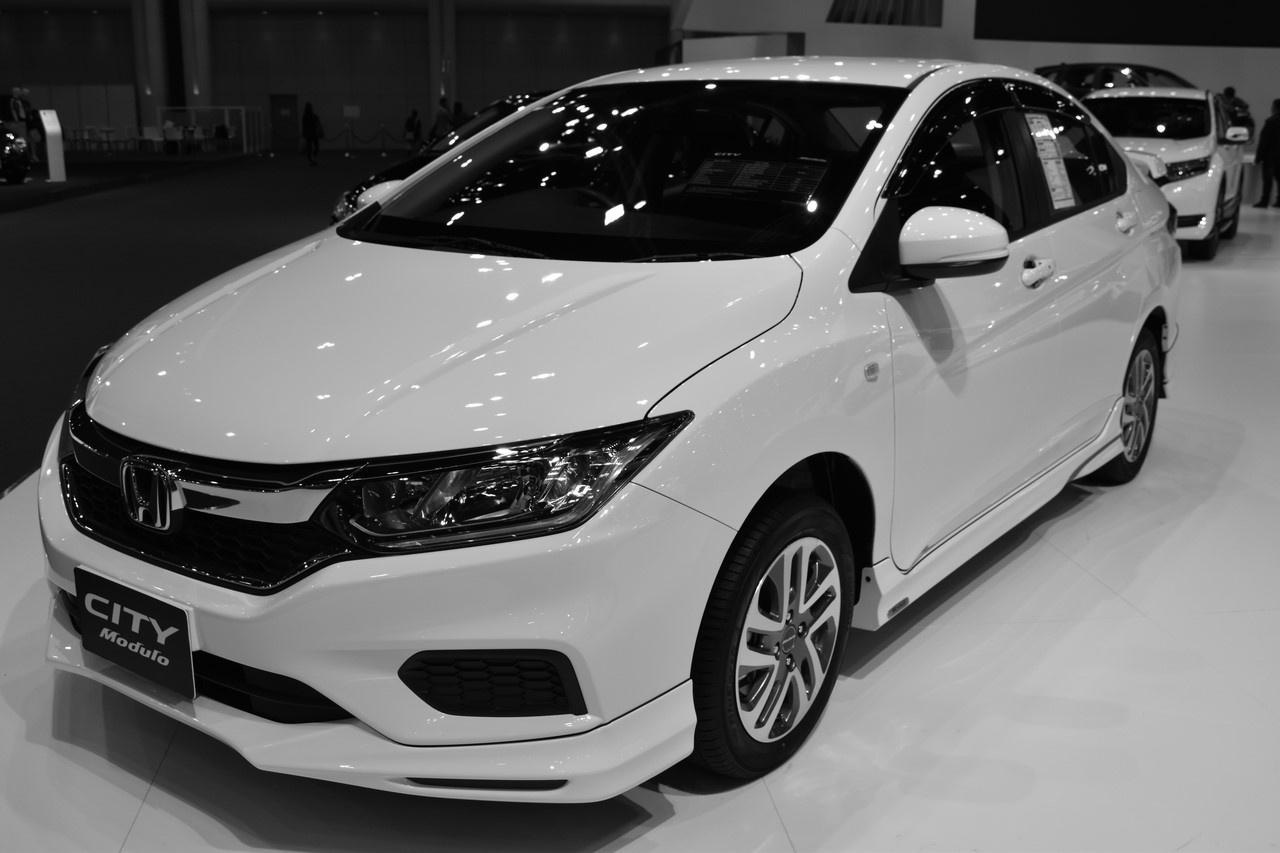Car hood: (81, 220, 809, 471)
Fender - -F-L-: (630, 226, 900, 638)
Front bumper: (23, 490, 748, 828)
Headlight - -L-: (315, 405, 712, 567)
Passenger-s door - -F-L-: (900, 65, 1055, 573)
Passenger-s door - -R-L-: (1037, 90, 1153, 473)
Rear light - -L-: (1140, 183, 1202, 244)
Side bumper - -L-: (850, 400, 1123, 639)
Side mirror - -L-: (870, 198, 1027, 301)
Side mirror - -R-: (308, 158, 384, 233)
